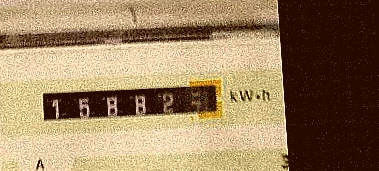1: (48, 95, 63, 118)
2: (159, 89, 176, 115)
5: (76, 93, 91, 119)
7: (189, 95, 202, 112)
8: (132, 91, 147, 116), (104, 93, 118, 117)
screen: (32, 70, 232, 138)
